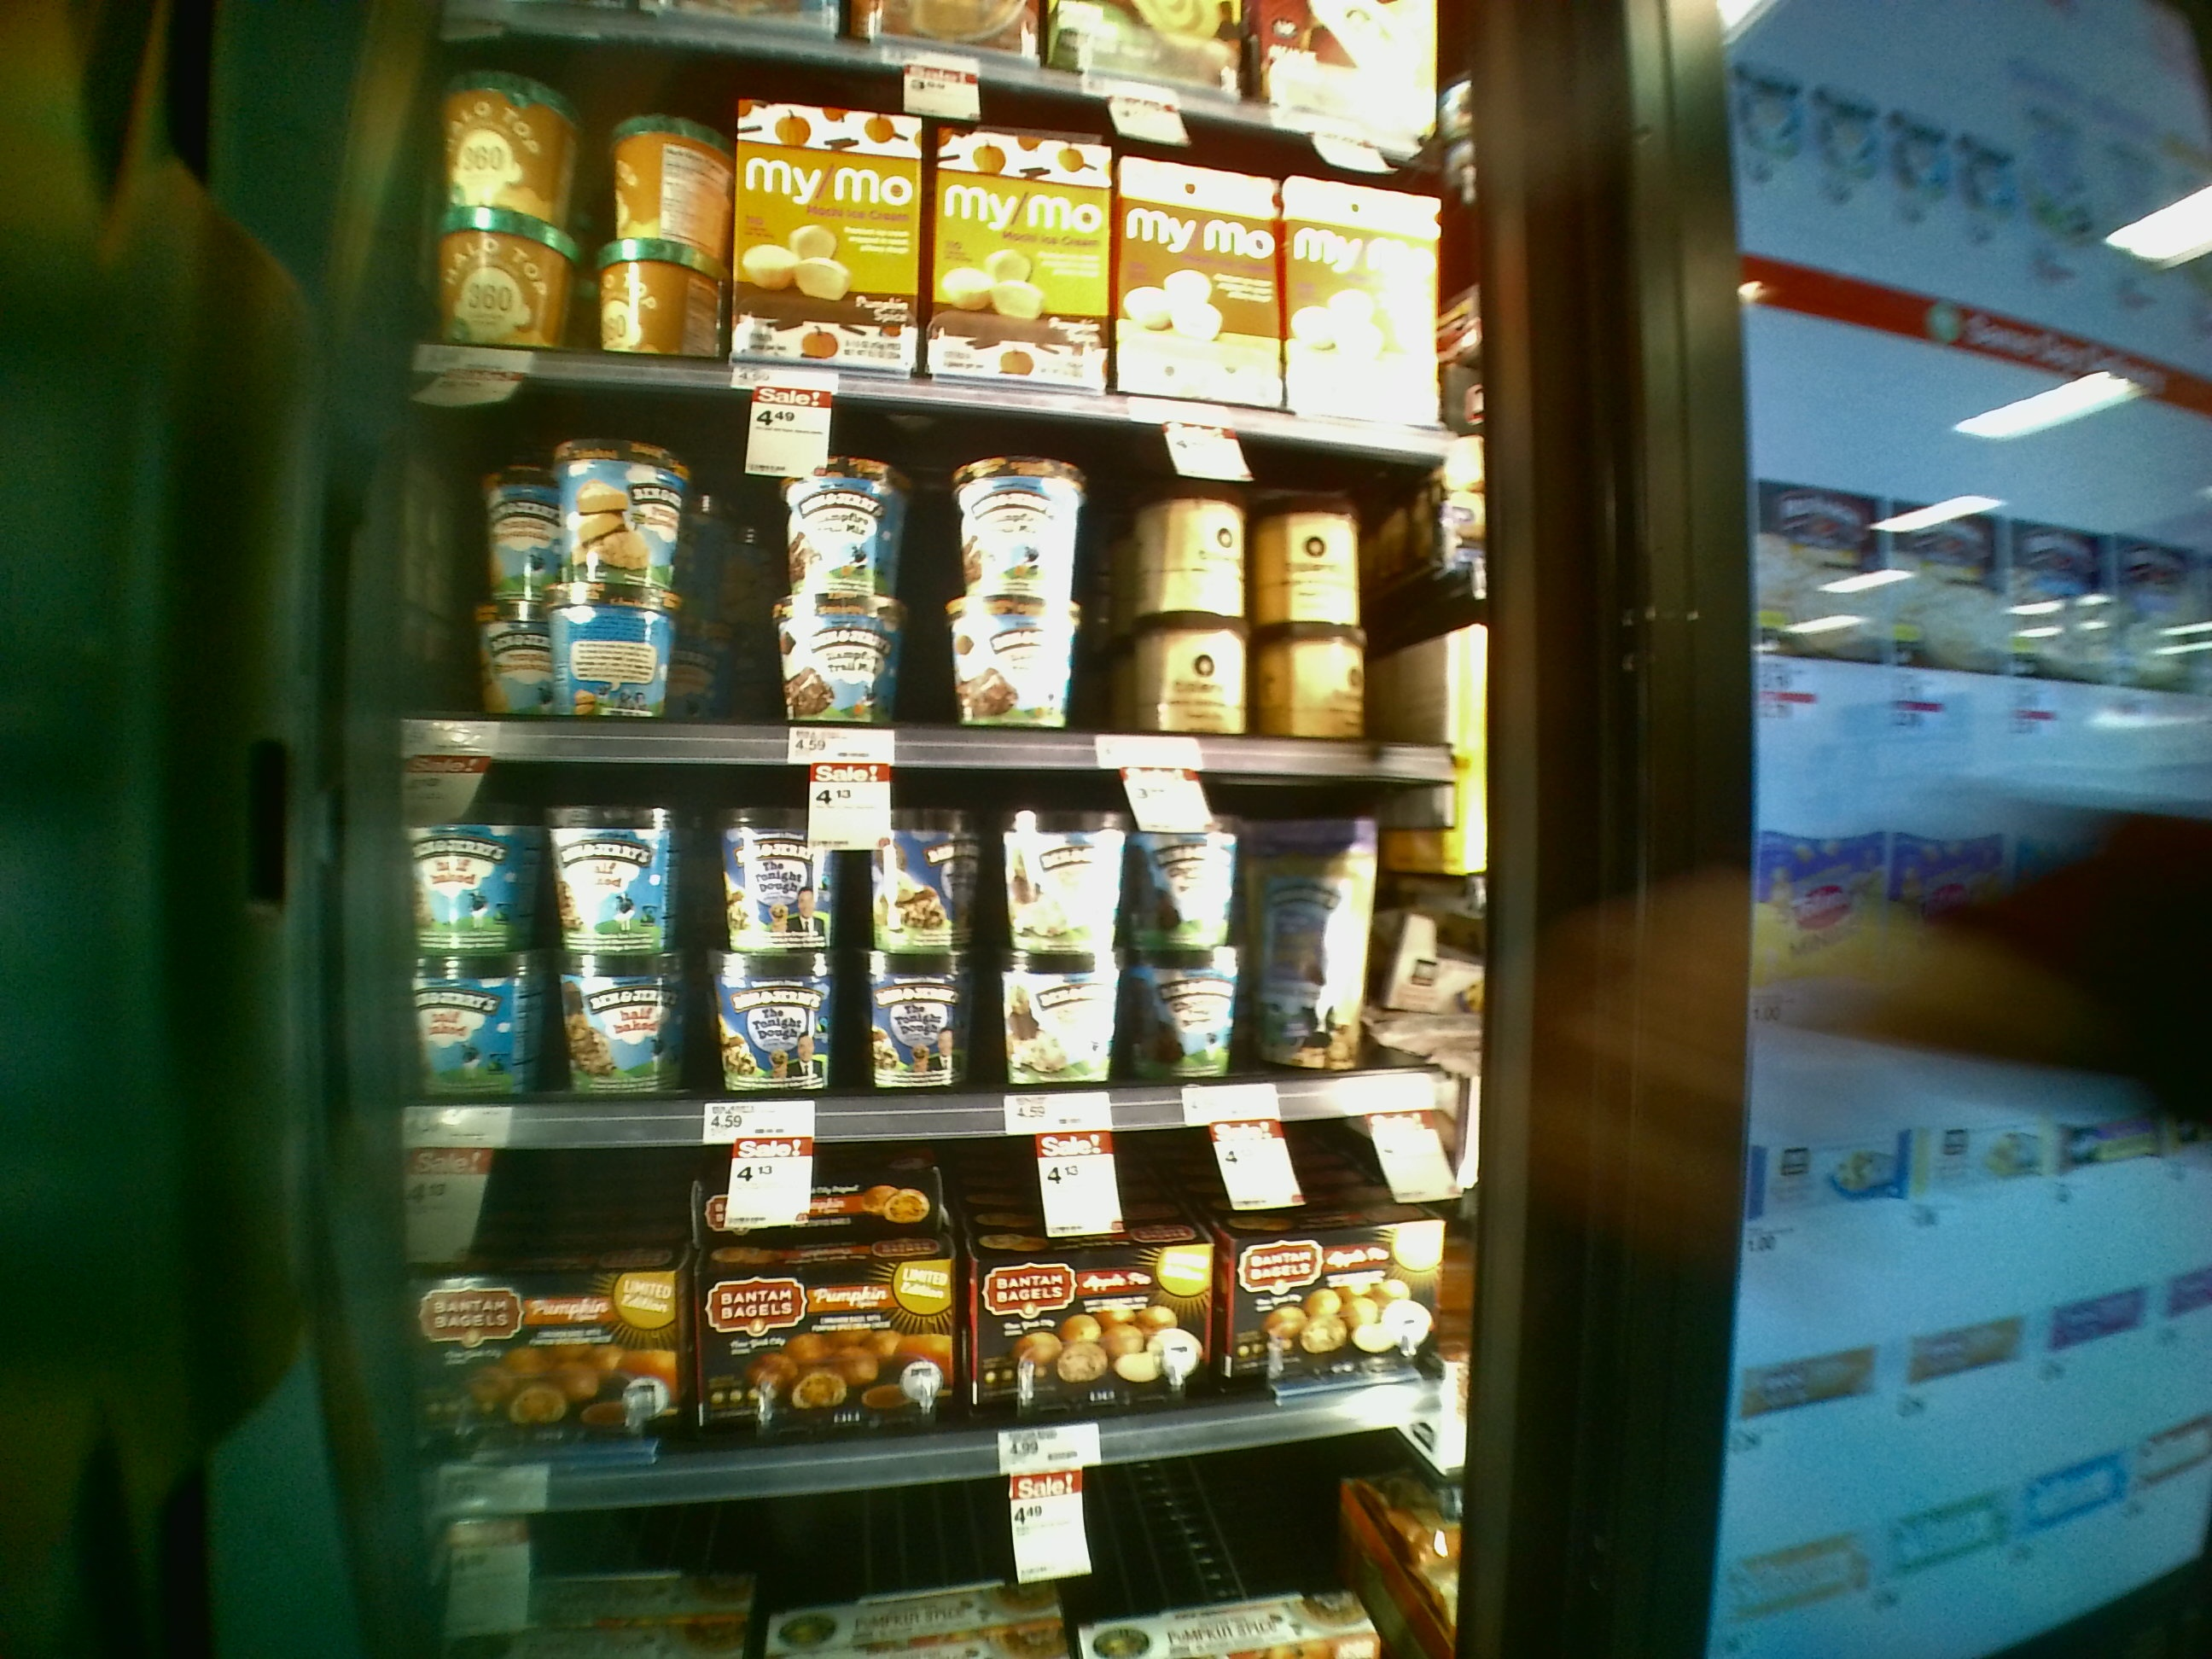shelf: (441, 21, 1475, 427), (388, 742, 1474, 1129), (402, 354, 1446, 753), (413, 1134, 1395, 1436)
